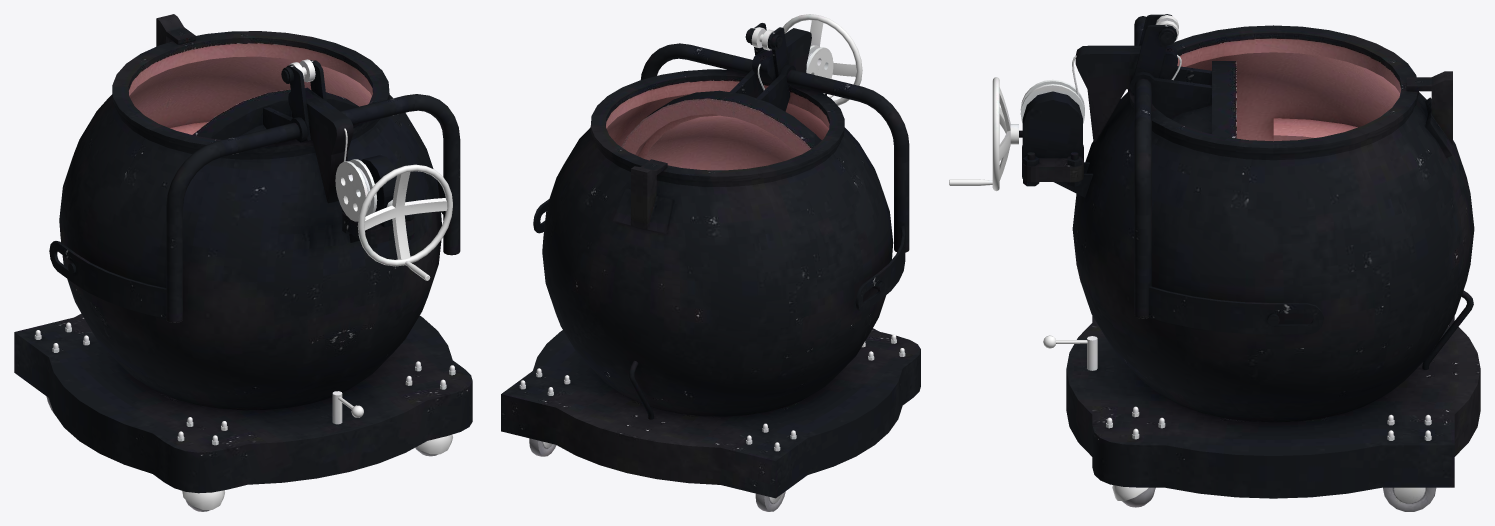
The picture shows the model from 3 angles, left to right: view 1: azimuth 30°, elevation 25°; view 2: azimuth 150°, elevation 25°; view 3: azimuth 270°, elevation 25°; orthographic projection. The views are drawn at different scales.
Parts seen in each view (by area): view 1: Object001; view 2: Object001; view 3: Object001.
Boxes of the visible parts, x1,y1,x2,y2 form: Object001: (14, 14, 472, 511); Object001: (501, 14, 920, 511); Object001: (949, 14, 1480, 511).
Bounding box in the file's own units: 0.649 × 0.7057 × 0.7932.
Materials: 1 (1 with a texture image).
